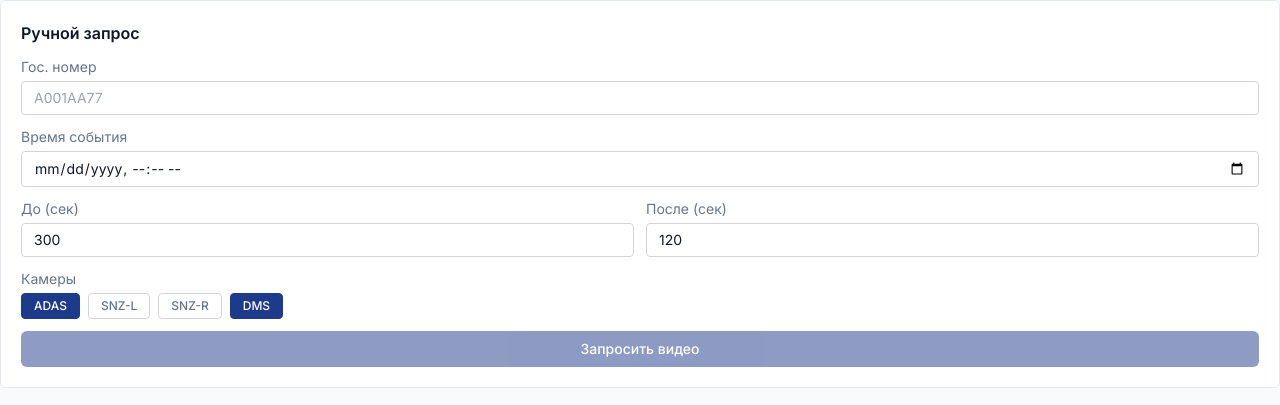
Test case: RuleBuilder › submit enabled after filling required fields
Type "а001аа77" into the field named "Гос. номер ТС" at (640, 98), box [21,81,1259,115]
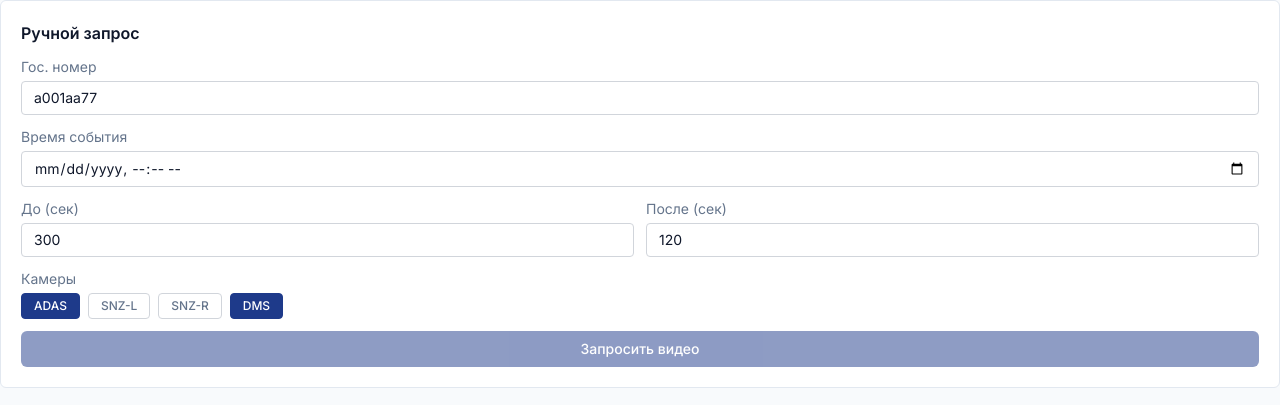
Type "2026-06-29T10:00" into the field labelled "Время события" at (640, 169), box [21,151,1259,187]
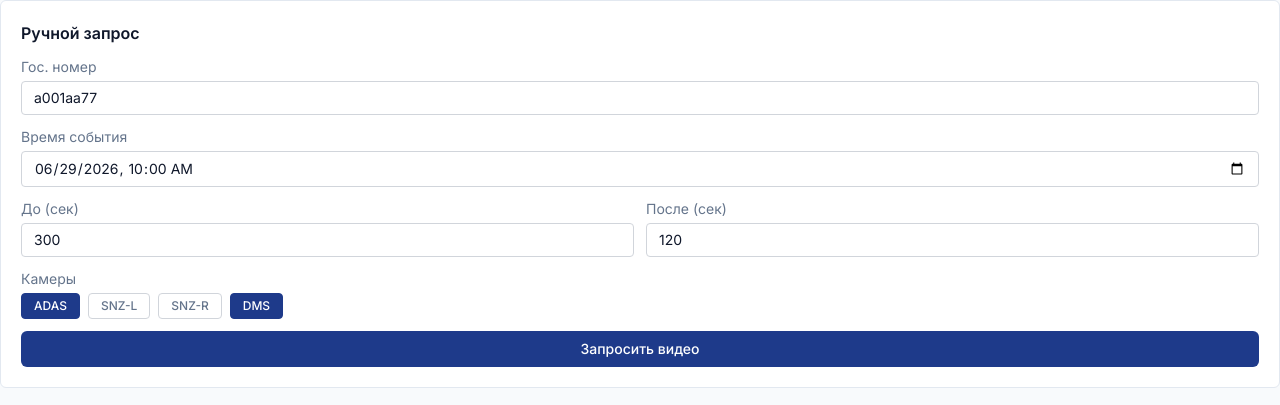
Expected: the button "Запросить видео" is enabled, [21,331,1259,367]
